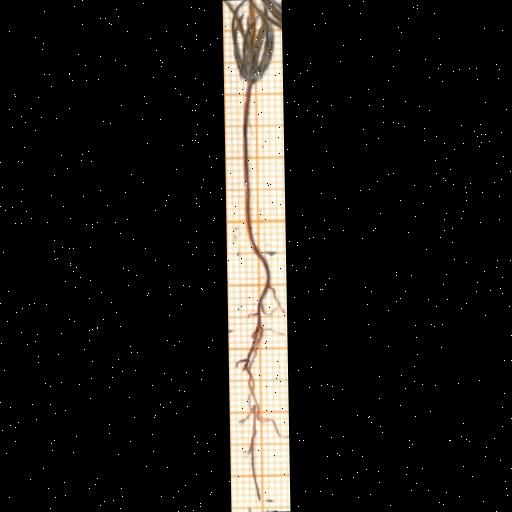flowerPinus: (228, 0, 273, 85)
rootPinus: (237, 257, 282, 499)
stemPinus: (241, 83, 258, 255), (241, 83, 254, 250)
